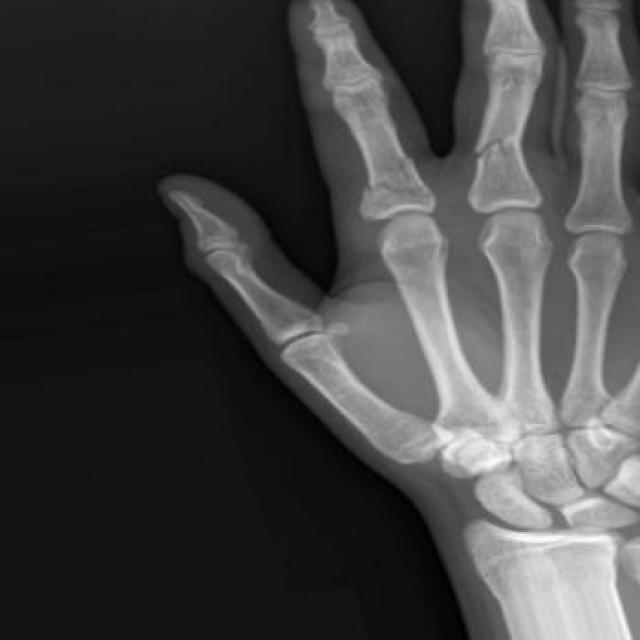Fracture: (356, 154, 436, 206), (457, 129, 536, 167)
